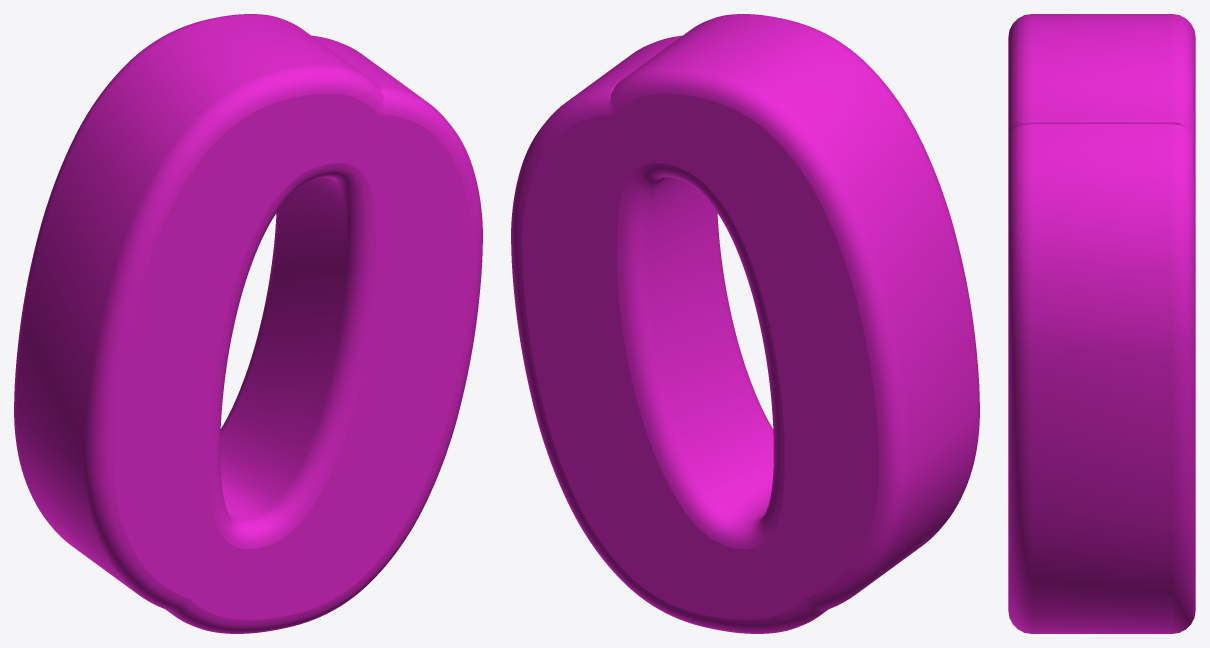
3 renders of one model, left to right at view 1: azimuth 30°, elevation 25°; view 2: azimuth 150°, elevation 25°; view 3: azimuth 270°, elevation 25°, orthographic. The views are drawn at different scales.
Parts seen in each view (by area): view 1: Text; view 2: Text; view 3: Text.
Part boxes in pixels (bbox=[...]): Text: bbox=[14, 14, 482, 633]; Text: bbox=[511, 14, 979, 633]; Text: bbox=[1008, 14, 1195, 633].
Bounding box in the file's own units: 0.4086 × 0.5493 × 0.16.
